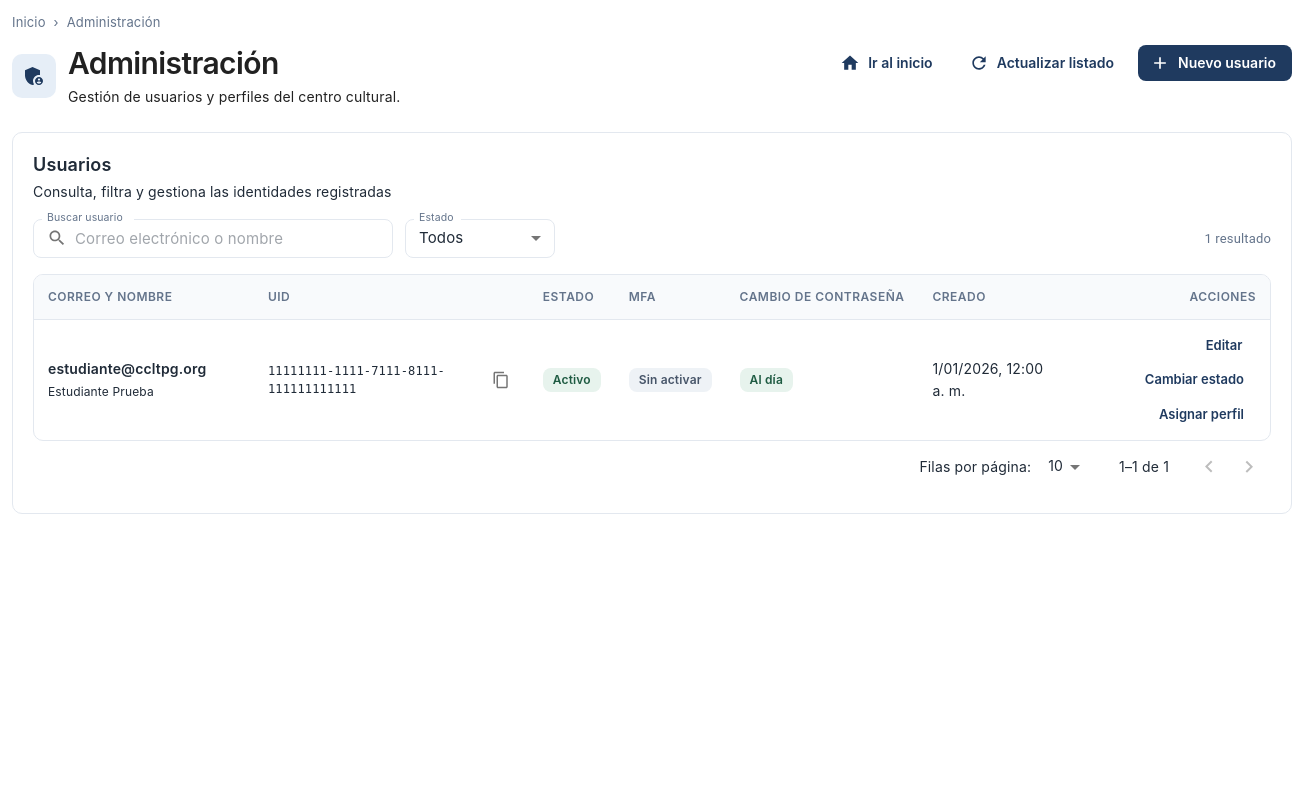
Test: diálogos de Administración de usuarios › muestra el UID en la tabla y permite copiarlo
Expected: the text "11111111-1111-7111-8111-111111111111" is shown, [268,364,445,396]
Click the button named "Copiar UID de estudiante@ccltpg.org". click: (501, 380)
box: [487,366,515,394]
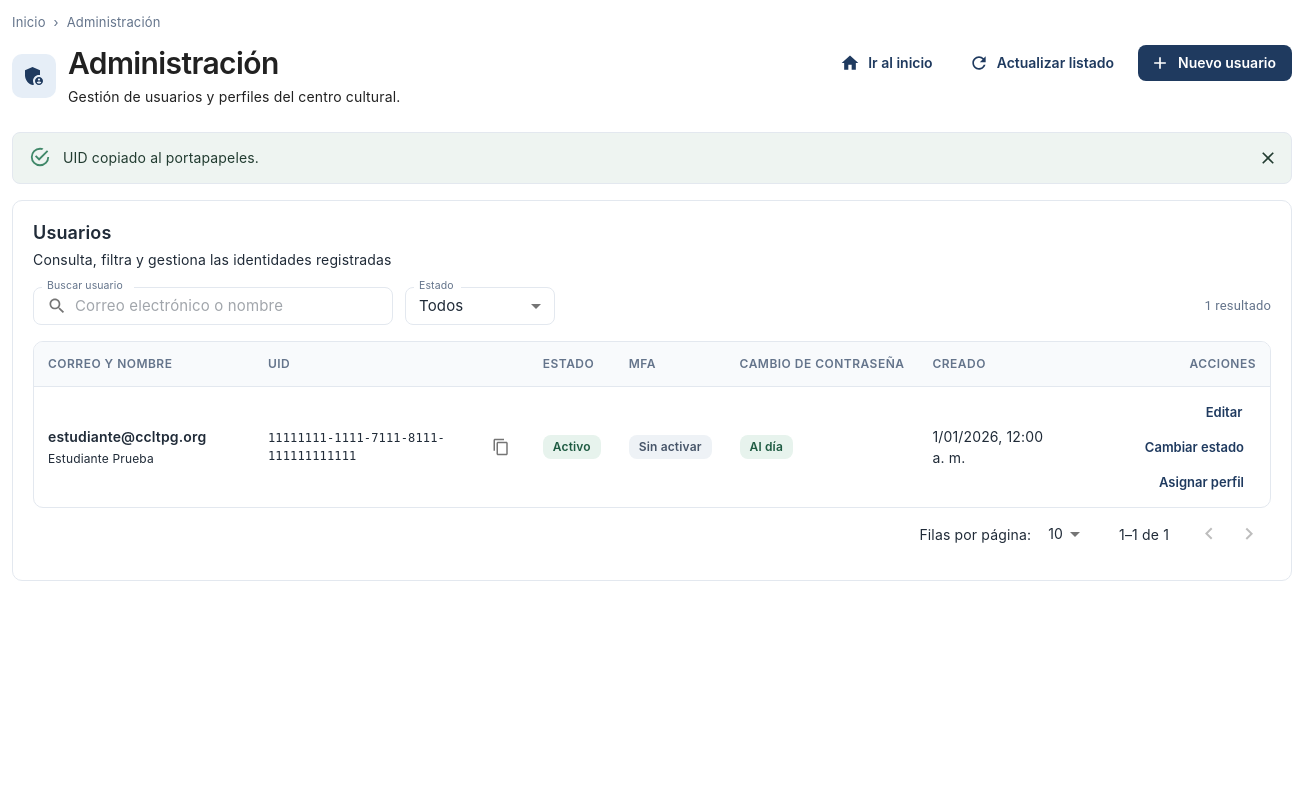
Result: the text "UID copiado al portapapeles." is shown at [63,149,259,166]
